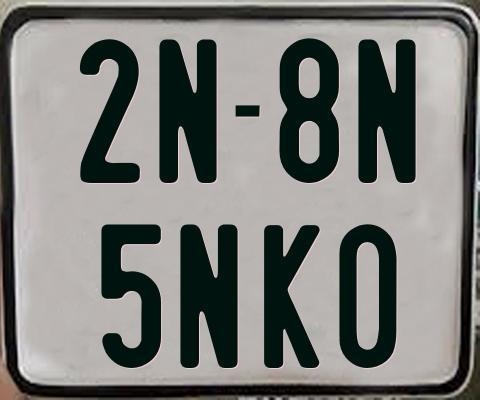0: (336, 221, 400, 368)
2: (77, 36, 140, 186)
5: (100, 222, 160, 369)
8: (279, 38, 345, 187)
K: (264, 223, 324, 370)
N: (355, 39, 415, 188), (179, 222, 239, 371), (157, 39, 216, 185)
